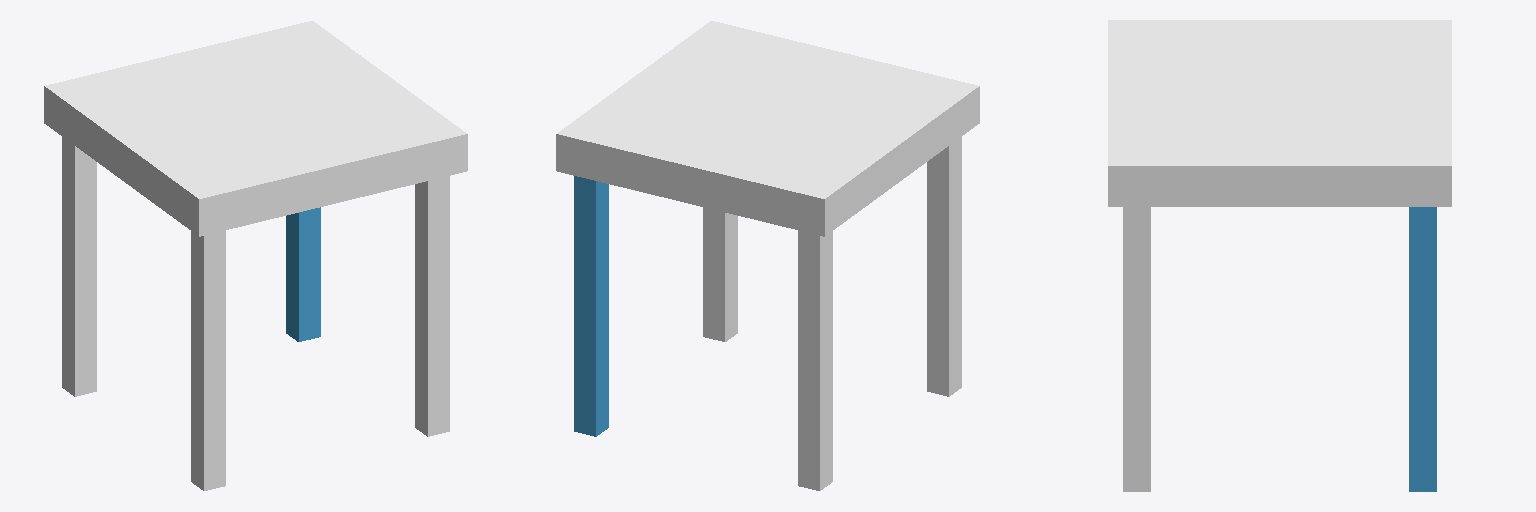
URDF robot description (urdf_table):
<?xml version="0.0" ?>
<robot name="urdf_table">
 <link name="world"/>
  <joint name="fixed" type="fixed">
    <parent link="world"/>
    <child link="baseLink"/>
    <origin xyz="0 0 0"/>
  </joint>

  <link name="baseLink">
    <inertial>
      <origin rpy="0 0 0" xyz="0 0 0.6"/>
       <mass value="0"/>
       <inertia ixx="0.1" ixy="0" ixz="0" iyy="0.1" iyz="0" izz="0.1"/>
    </inertial>
    <visual>
      <origin rpy="0 0 0" xyz="0 0 0.6"/>
      <geometry>
	    <mesh filename="table.obj" scale="0.6 0.6 0.08"/>
      </geometry>
	   <material name="framemat0">
      <color
                    rgba="1 1 1 1" />
      </material>
    </visual>
    <visual>
      <origin rpy="0 0 0" xyz="-0.25 -0.25 0.28"/>
      <geometry>
        <box size="0.05 0.05 0.56"/>
      </geometry>
	  <material name="framemat0"/>	 
    </visual>
    <visual>
      <origin rpy="0 0 0" xyz="-0.25 0.25 0.28"/>
      <geometry>
        <box size="0.05 0.05 0.56"/>
      </geometry>
	  <material name="framemat0"/>
	  </visual>
    <visual>
      <origin rpy="0 0 0" xyz="0.25 -0.25 0.28"/>
      <geometry>
        <box size="0.05 0.05 0.56"/>
      </geometry>
	  <material name="framemat0"/>
	  </visual>
    <visual>
      <origin rpy="0 0 0" xyz="0.25 0.25 0.28"/>
      <geometry>
        <box size="0.05 0.05 0.56"/>
      </geometry>
    </visual>
    <collision>
      <origin rpy="0 0 0" xyz="0 0 0.6"/>
      <geometry>
      <box size="0.6 0.6 0.08"/>
      </geometry>
    </collision>    
  </link>
</robot>

--- What the picture shows (computed from the rendered views, not written in the file) ---
The picture shows the robot from 3 angles, left to right: view 1: azimuth 30°, elevation 25°; view 2: azimuth 150°, elevation 25°; view 3: azimuth 270°, elevation 25°; orthographic projection.
Model urdf_table with 2 links and 1 joints (1 fixed), rooted at world, posed every joint at zero.
Visible links, largest first — view 1: baseLink; view 2: baseLink; view 3: baseLink.
Boxes of the visible links, x1,y1,x2,y2 form: baseLink: (44, 21, 467, 490); baseLink: (556, 21, 979, 490); baseLink: (1108, 20, 1451, 491).
Size in the robot's own frame: 0.6 by 0.6 by 0.64 metres.
Meshes: 1 distinct files referenced, 1 mesh visuals loaded (1 OBJ).